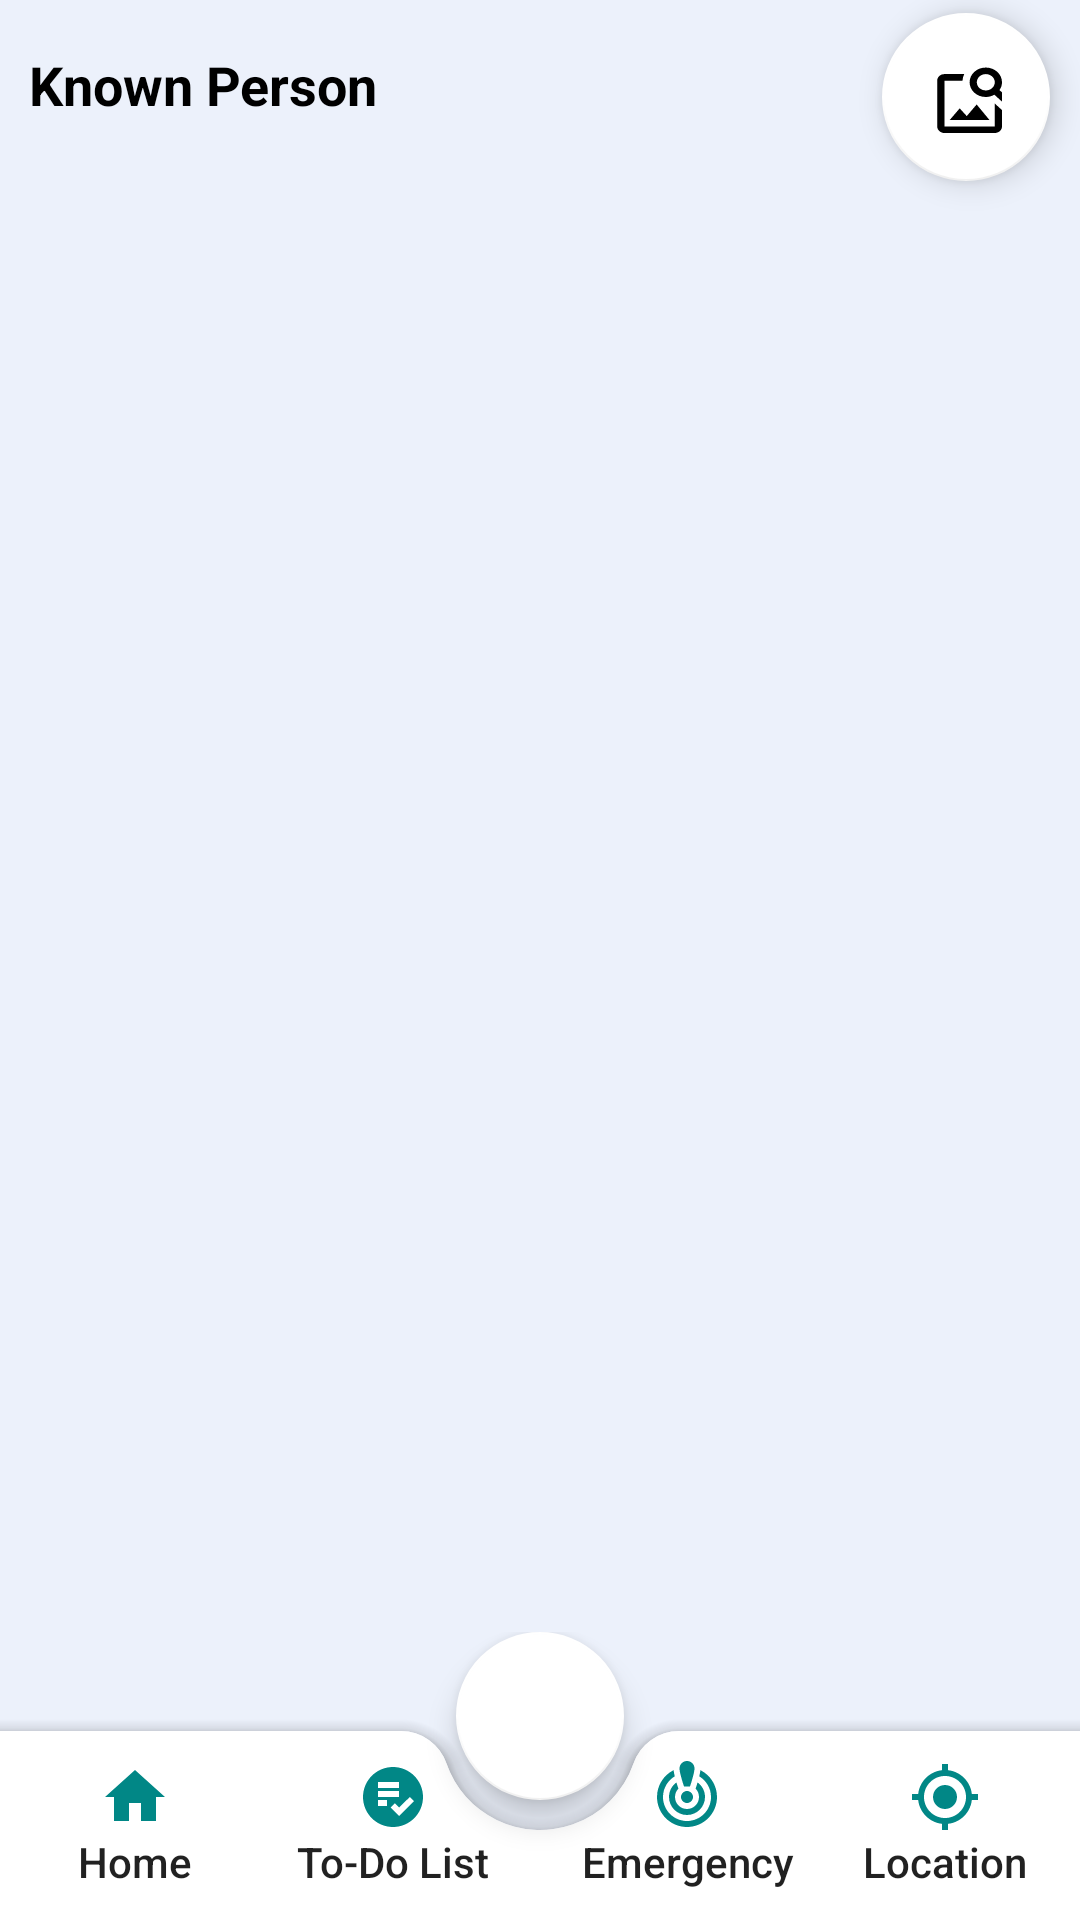

Icons on this 1080px x 1920px Android screen, each with its box as (x1, y1, x2, y2):
search: (882, 13, 1050, 181)
